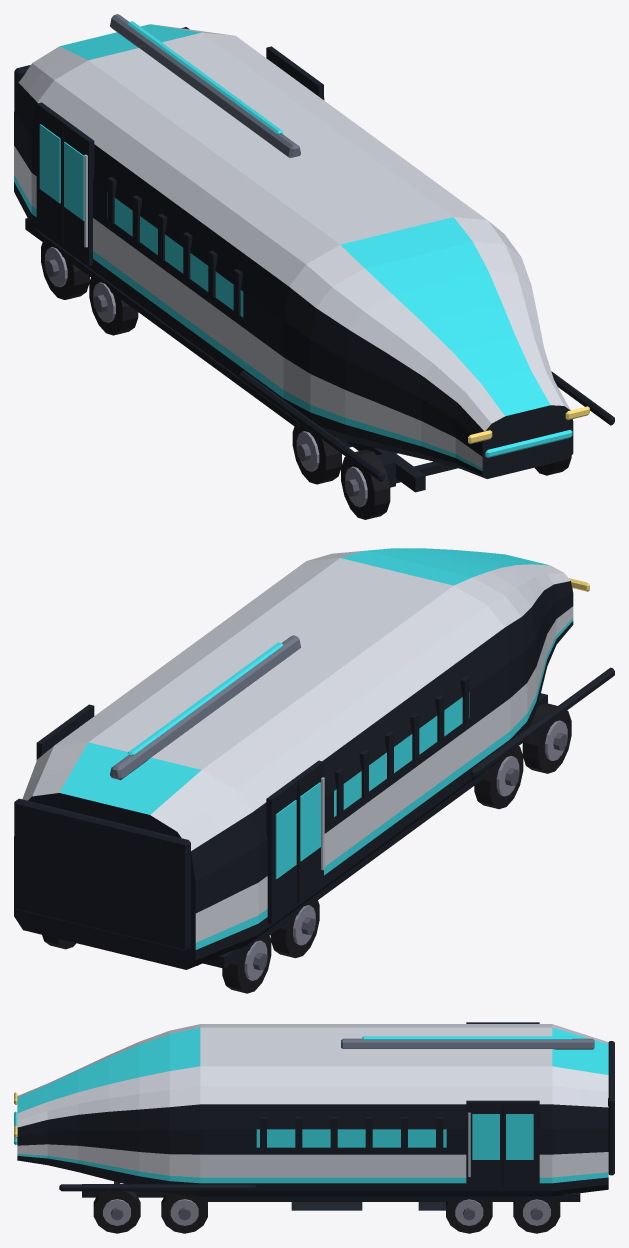
Rendered from future-train.glb.
3 renders of one model, top to bottom at view 1: azimuth 30°, elevation 25°; view 2: azimuth 150°, elevation 25°; view 3: azimuth 270°, elevation 25°, orthographic. The views are drawn at different scales.
Visible parts, largest first — view 1: FutureTrain; view 2: FutureTrain; view 3: FutureTrain.
Part boxes in pixels (left/top/right/bottom): FutureTrain: left=14, top=14, right=614, bottom=519; FutureTrain: left=14, top=548, right=614, bottom=993; FutureTrain: left=14, top=1022, right=614, bottom=1233.
Bounding box in the file's own units: 1.38 × 1.28 × 4.27.
Materials: 1 (1 with a texture image).
